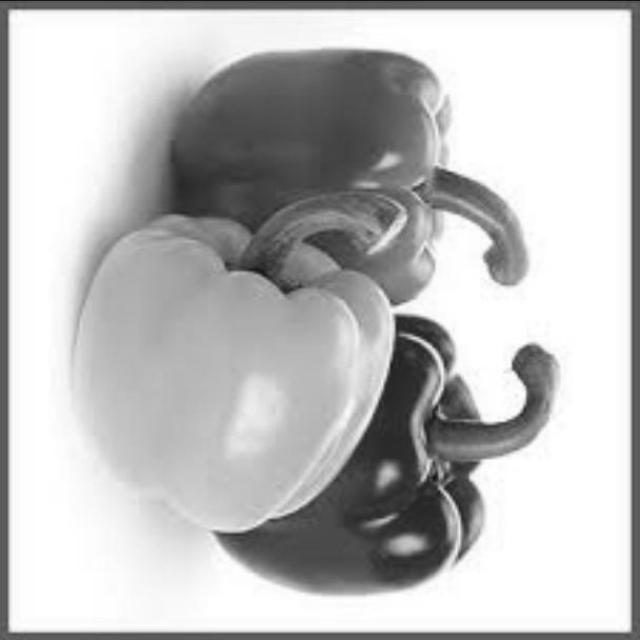bell pepper: (70, 221, 397, 539), (157, 40, 527, 314), (183, 318, 502, 594)
